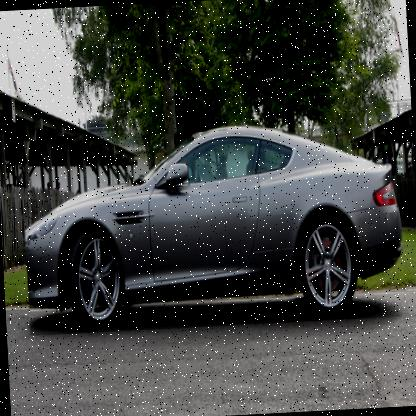Car: (20, 122, 407, 336)
